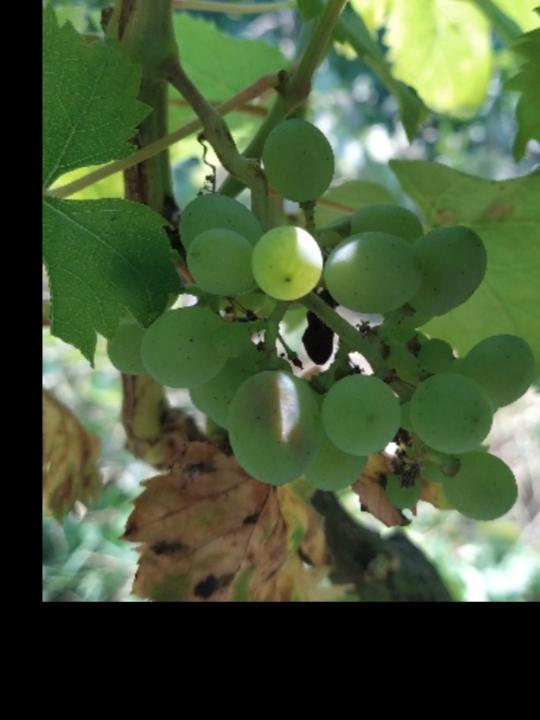grape: (101, 117, 537, 525)
